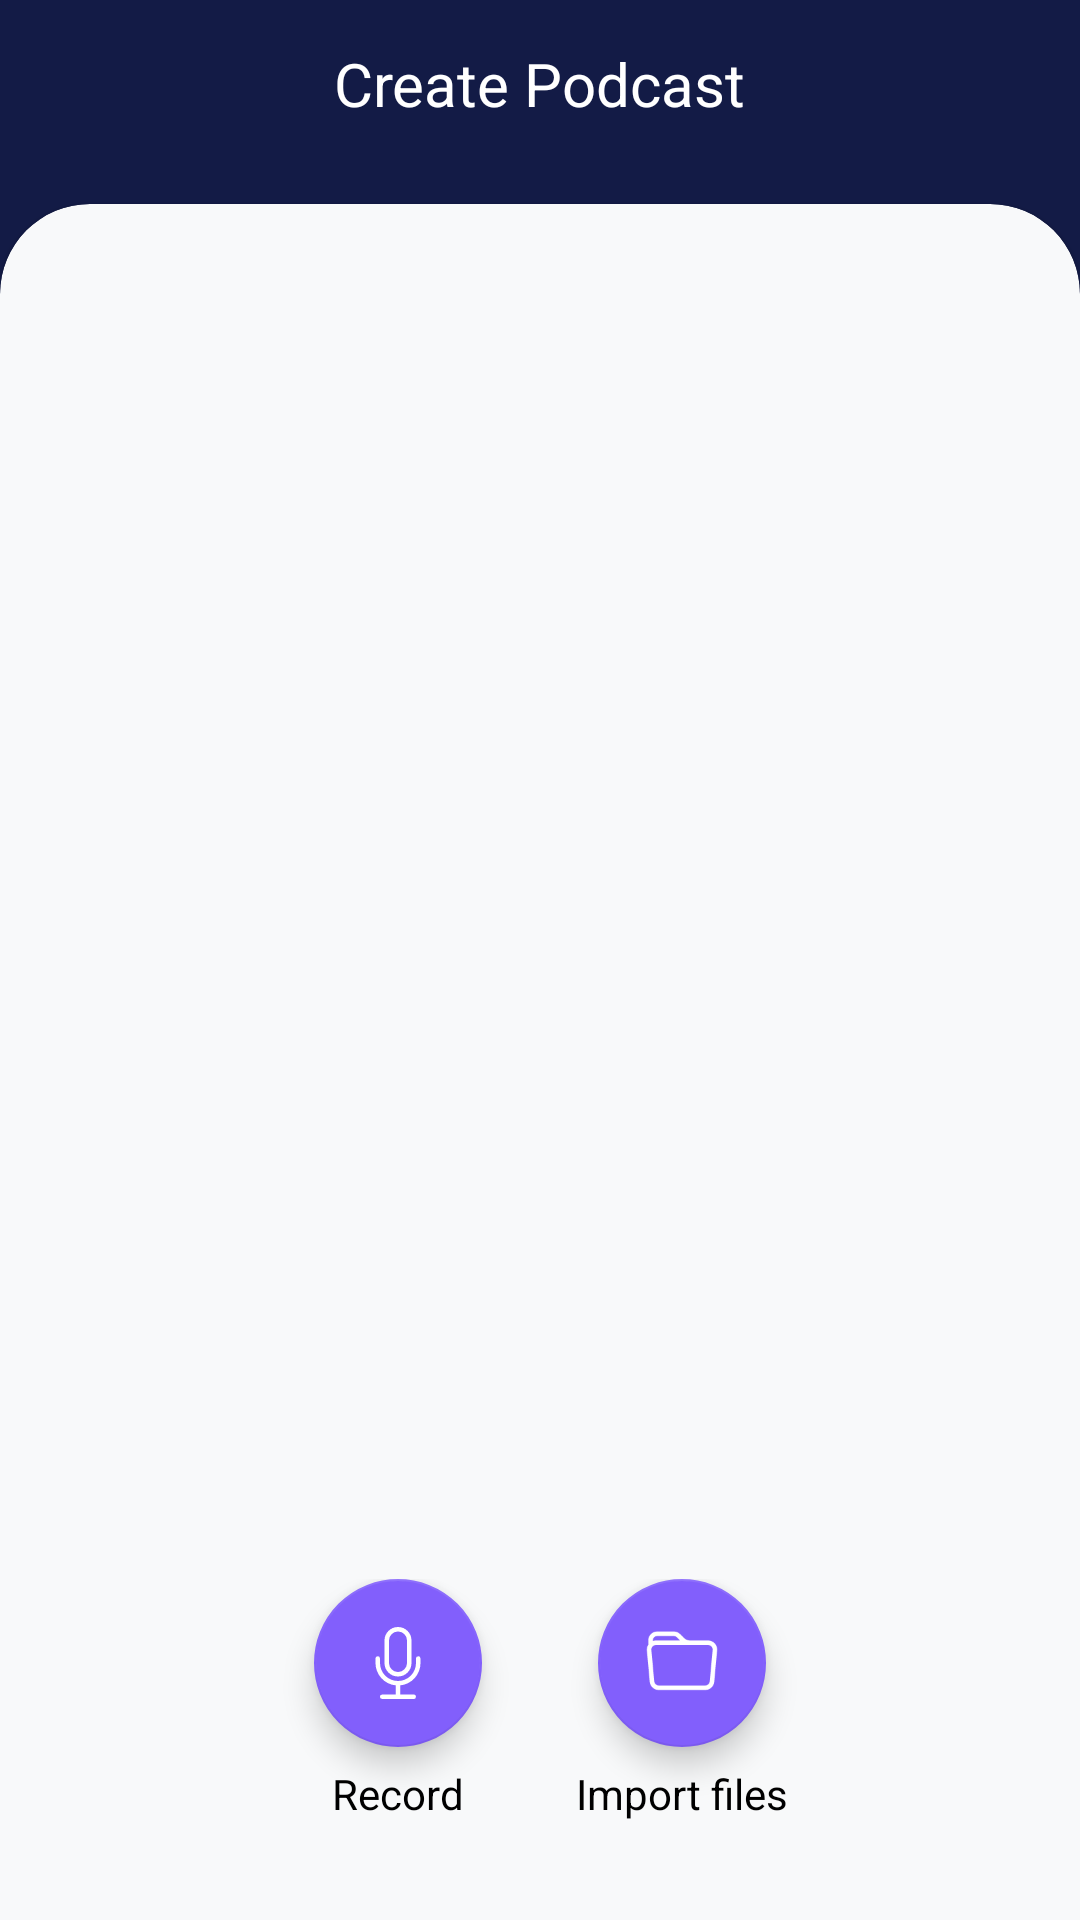

Icon bounding boxes for this 1080w x 1920h phone screenshot, format (x1,y1,x2,y2):
Folder Icon: (598,1579,766,1747)
Mic Icon: (314,1579,482,1747)
